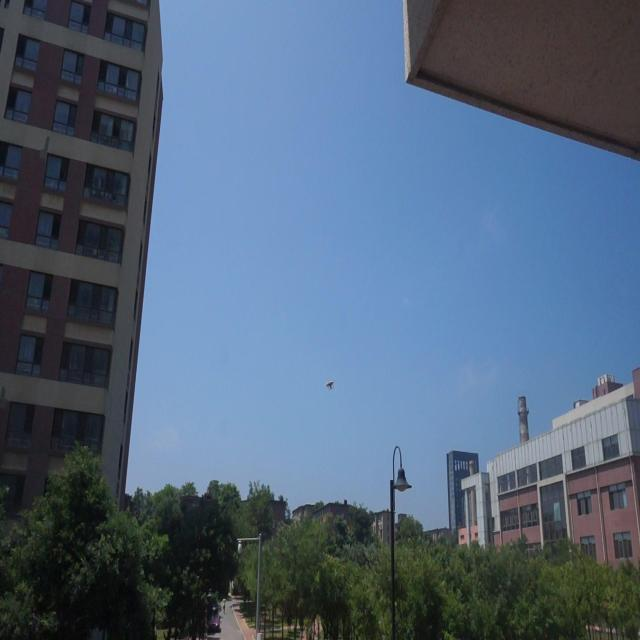drone: (322, 378, 338, 393)
